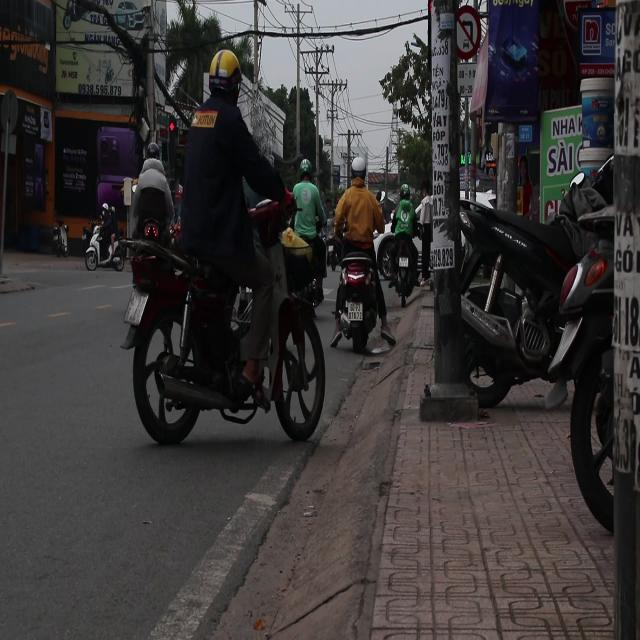motorbike: (118, 218, 325, 443), (331, 252, 392, 352), (83, 218, 123, 272)
